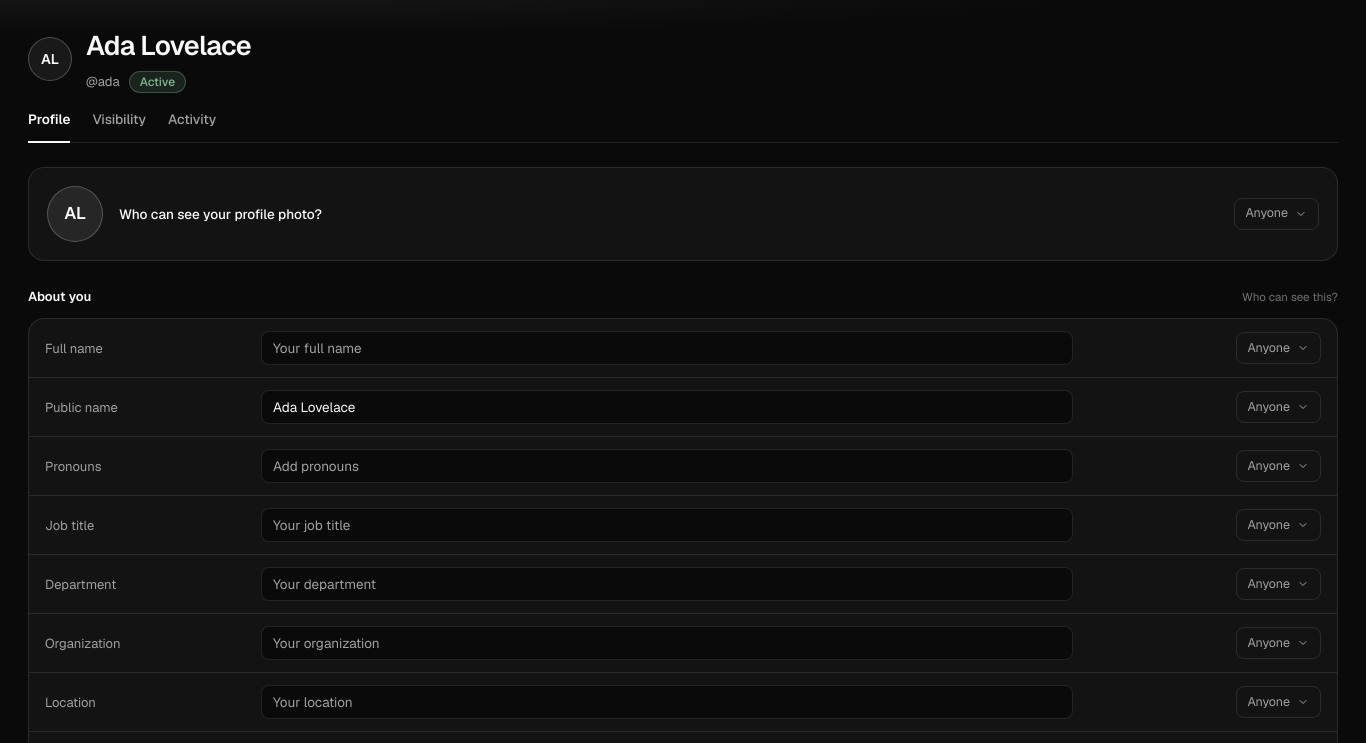
AccountScreen › updates the header initials when the public name changes
Clear the field labelled "Public name" at coordinates (667, 407), box [261,390,1073,424]
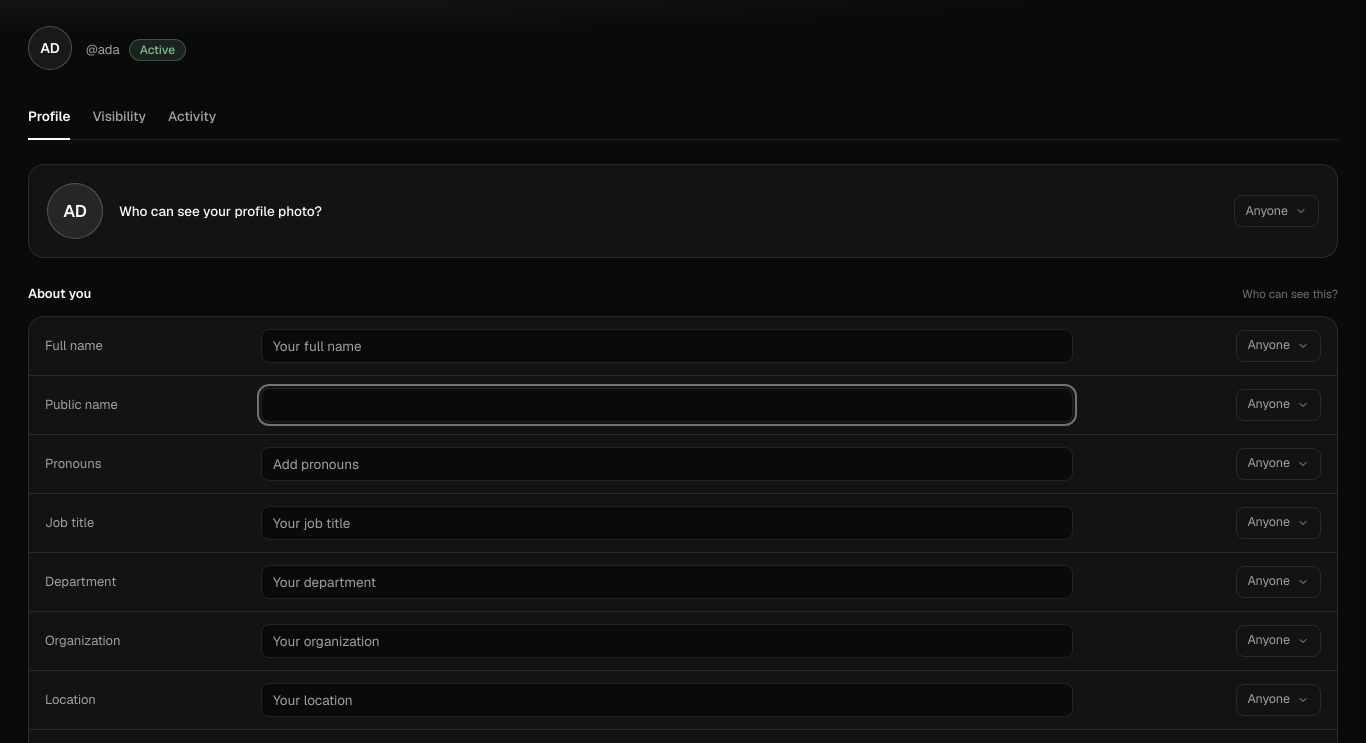
Type "Grace Hopper" into the field labelled "Public name" at coordinates (667, 405), box [261,388,1073,422]
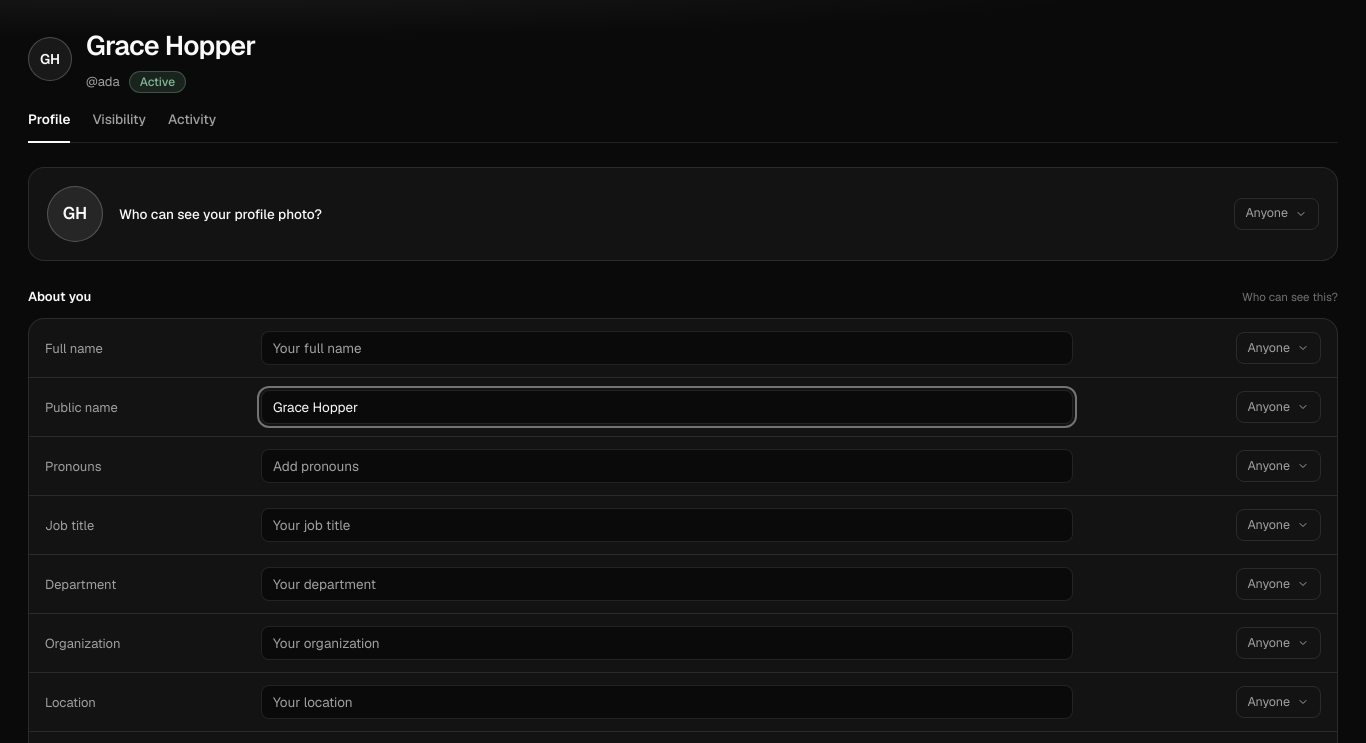
Check: the header "Grace Hopper" is shown, box [0,0,1365,143]
Check: the text "GH" next to "Grace Hopper" is shown, box [40,50,60,68]
